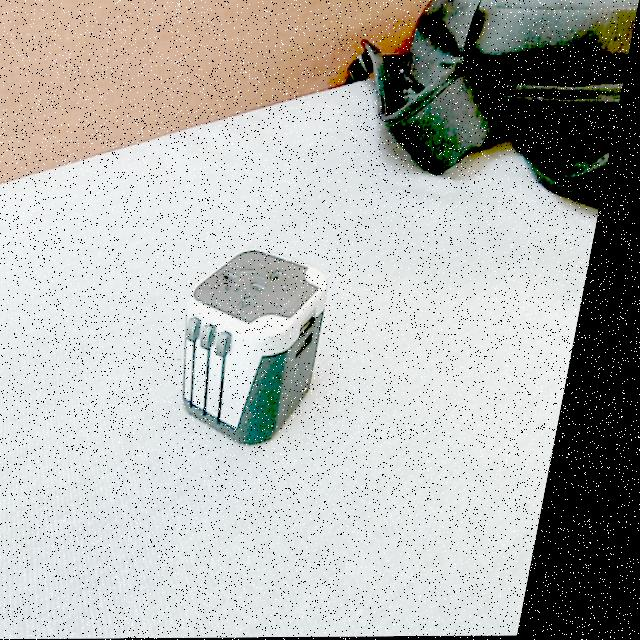adapter: (177, 246, 348, 447)
